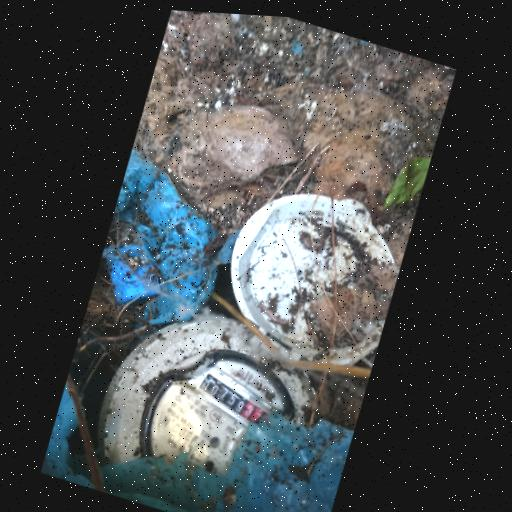0: (197, 371, 217, 395), (205, 377, 225, 401)
3: (239, 399, 258, 422)
5: (220, 386, 242, 411)
7: (213, 382, 233, 405), (247, 405, 266, 428)
9: (230, 393, 250, 416)
border_water_meter_number: (182, 359, 285, 442)
